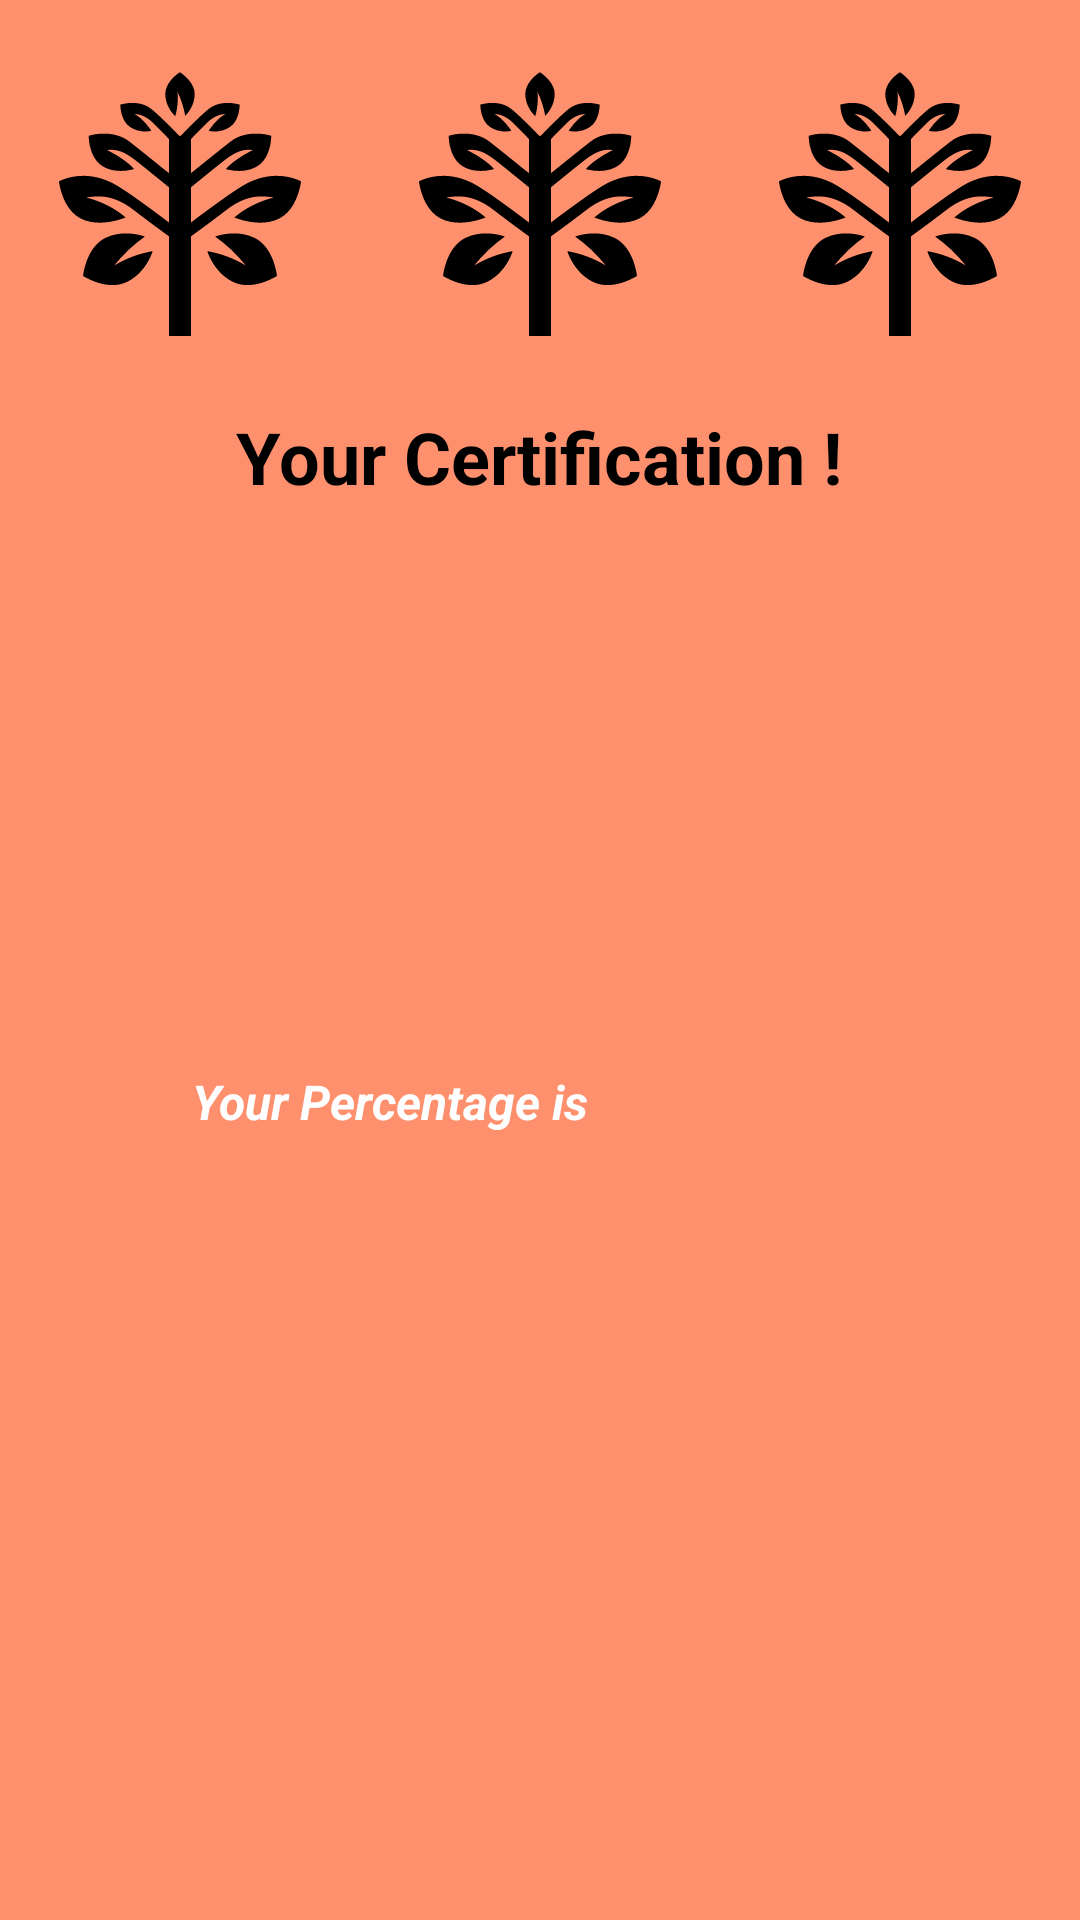

Named icons in this screenshot (1080w x 1920h) and their bounding boxes, BBox(x1, y1, x2, y2):
tree: BBox(59, 72, 301, 336), BBox(419, 72, 661, 336), BBox(779, 72, 1021, 336)
